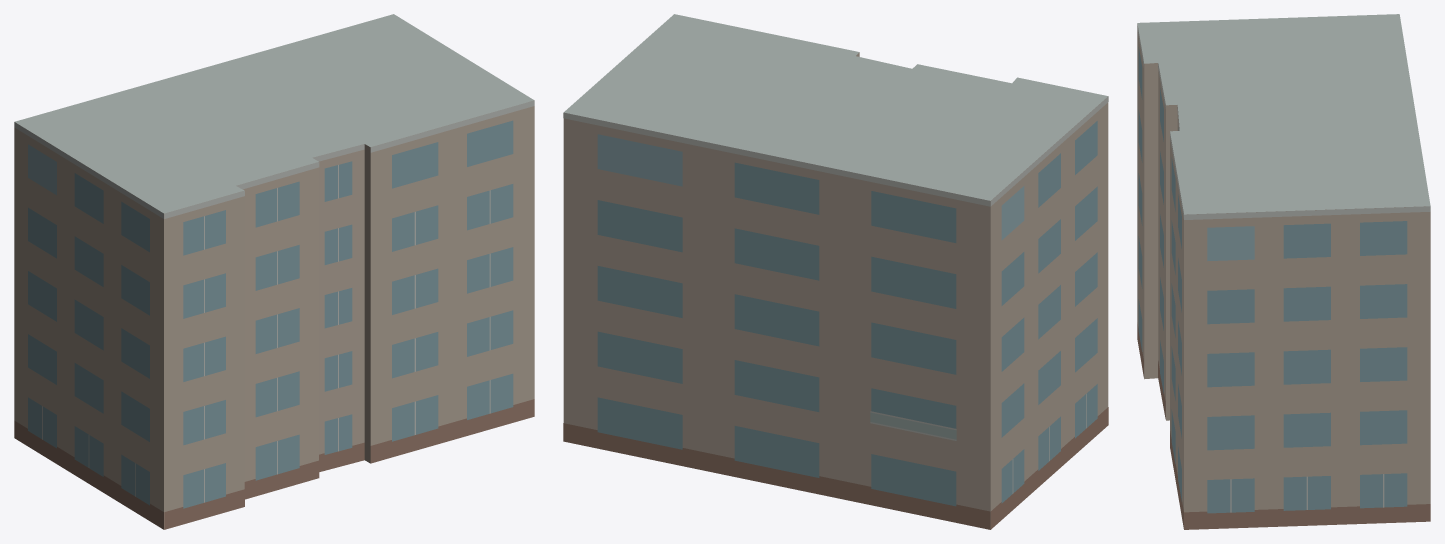
The model's file is survey-upis-32755799.glb.
3 views of the same model, side by side, from view 1: azimuth 30°, elevation 25°; view 2: azimuth 150°, elevation 25°; view 3: azimuth 270°, elevation 25° (orthographic). The views are drawn at different scales.
Visible parts, largest first — view 1: survey-upis-32755799.tmp; view 2: survey-upis-32755799.tmp; view 3: survey-upis-32755799.tmp.
Boxes of the visible parts, x1,y1,x2,y2 form: survey-upis-32755799.tmp: (14,14,534,529); survey-upis-32755799.tmp: (563,14,1108,529); survey-upis-32755799.tmp: (1137,14,1430,529).
Bounding box in the file's own units: 18.83 × 13.8 × 11.64.
